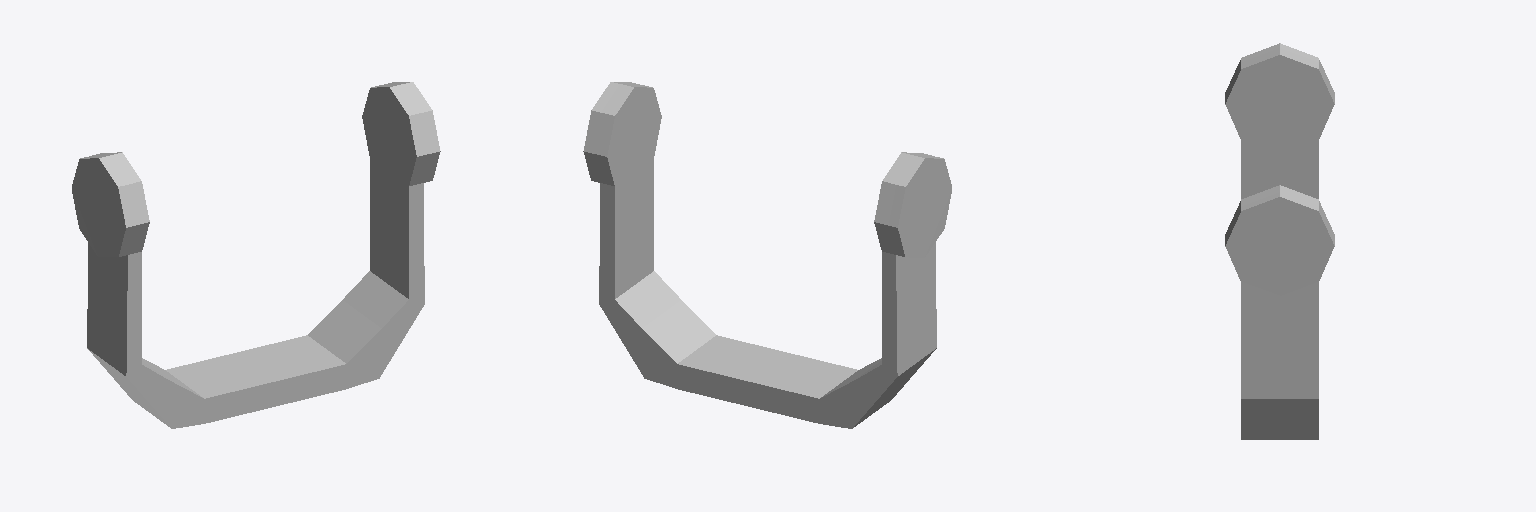
Rendered from mhHolder.obj.
The picture shows the model from 3 angles: view 1: azimuth 30°, elevation 25°; view 2: azimuth 150°, elevation 25°; view 3: azimuth 270°, elevation 25°; orthographic projection.
Visible parts, largest first — view 1: Cube.003_Cube.006; view 2: Cube.003_Cube.006; view 3: Cube.003_Cube.006.
Boxes of the visible parts, box(x1,y1,x2,y2) form: Cube.003_Cube.006: box(72, 82, 440, 428); Cube.003_Cube.006: box(583, 82, 951, 428); Cube.003_Cube.006: box(1225, 43, 1334, 439).
Size of the model in its own units: 4.26 by 3.52 by 1.28.